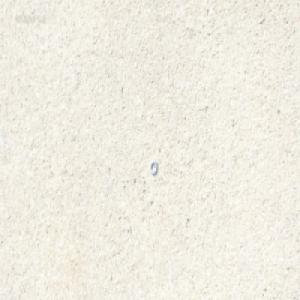Washer: (150, 160, 158, 175)
